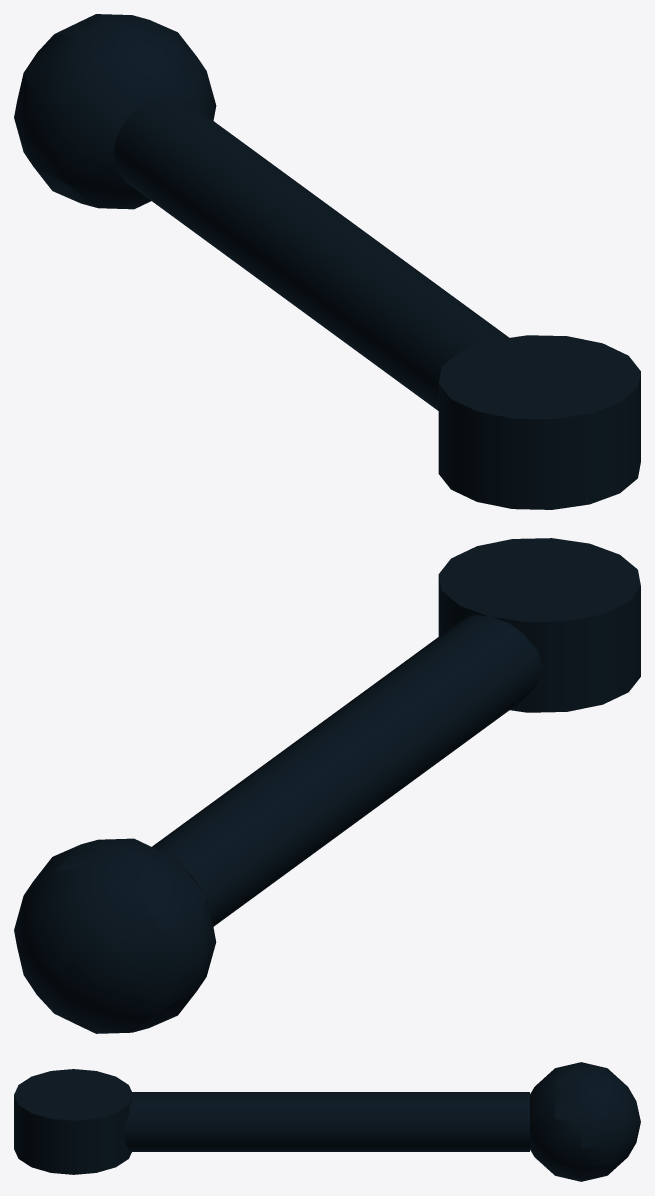
The model's file is antenna.dae.
The picture shows the model from 3 angles, top to bottom: view 1: azimuth 30°, elevation 25°; view 2: azimuth 150°, elevation 25°; view 3: azimuth 270°, elevation 25°; orthographic projection. The views are drawn at different scales.
Visible parts, largest first — view 1: 4593_dot_dat.001; view 2: 4593_dot_dat.001; view 3: 4593_dot_dat.001.
Part boxes in pixels (left/top/right/bottom): 4593_dot_dat.001: left=14, top=14, right=640, bottom=509; 4593_dot_dat.001: left=14, top=538, right=640, bottom=1033; 4593_dot_dat.001: left=14, top=1062, right=640, bottom=1181.
Bounding box in the file's own units: 0.3183 × 1.63 × 0.31.
